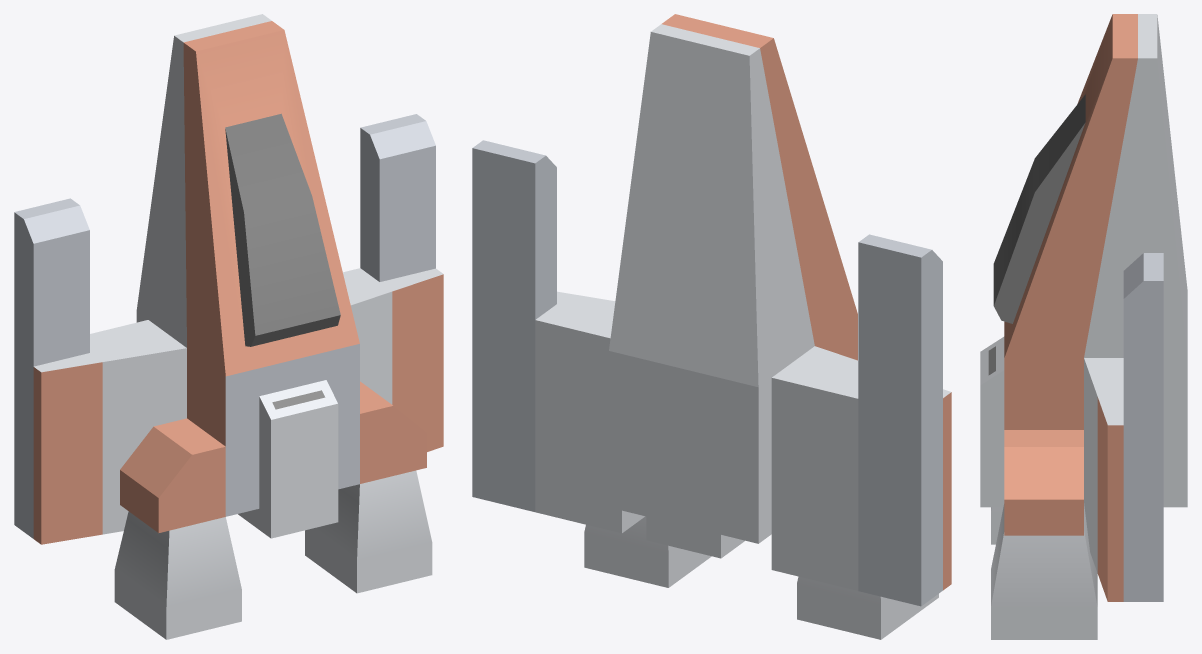
File: spaceCraft3.glb
The picture shows the model from 3 angles, left to right: view 1: azimuth 30°, elevation 25°; view 2: azimuth 150°, elevation 25°; view 3: azimuth 270°, elevation 25°; orthographic projection. The views are drawn at different scales.
Parts seen in each view (by area): view 1: spaceCraft3; view 2: spaceCraft3; view 3: spaceCraft3.
Part boxes in pixels (box(x1,y1,x2,y2)): spaceCraft3: box(14, 14, 443, 639); spaceCraft3: box(472, 14, 951, 639); spaceCraft3: box(980, 14, 1187, 639).
Size of the model in its own units: 14.81 by 18.41 by 6.44.
